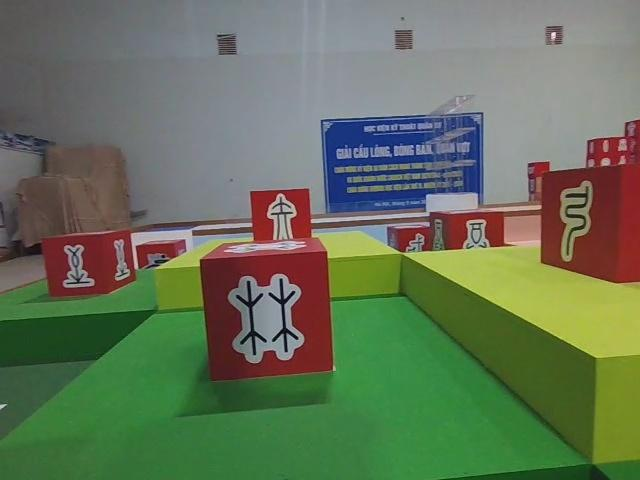R1: (135, 236, 188, 277)
R2 Fake: (538, 165, 640, 284), (250, 187, 314, 245)
R2 Real: (196, 234, 336, 378), (41, 227, 139, 307), (425, 207, 505, 257)
